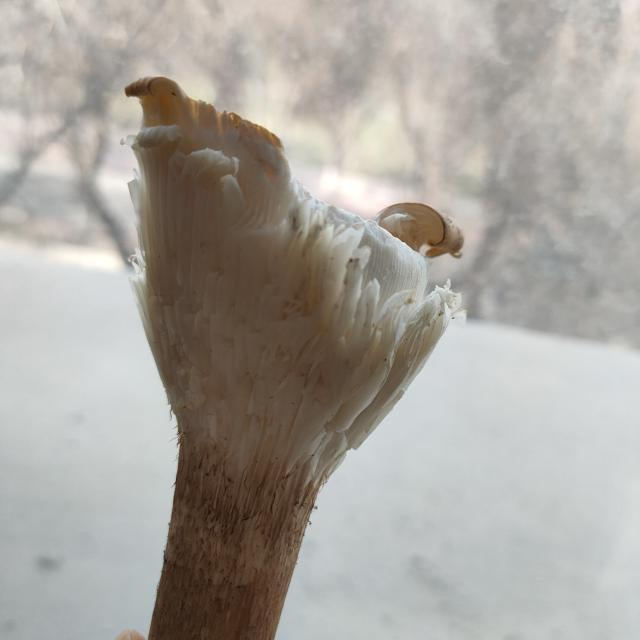Clitocybe maxima: (117, 75, 467, 640)
